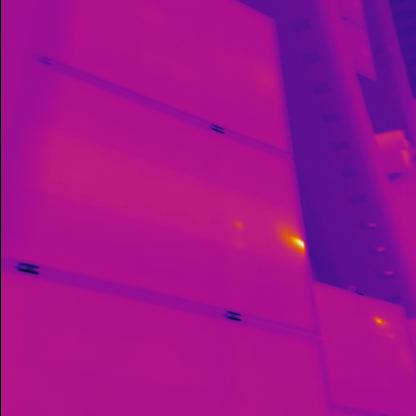hotspot: (281, 232, 306, 256)
